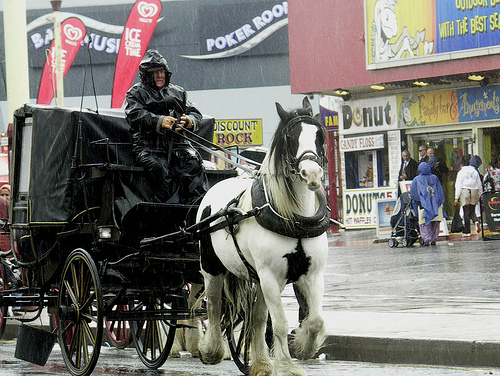horse: (193, 100, 333, 373)
